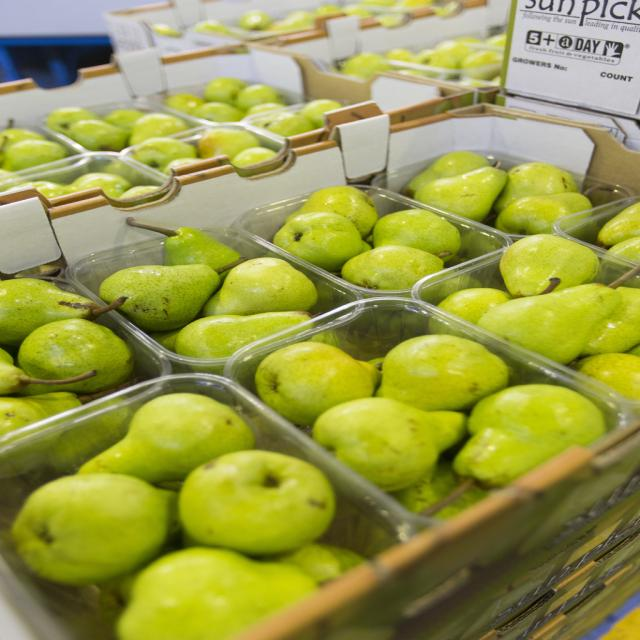Healty Apple: (166, 456, 345, 564)
